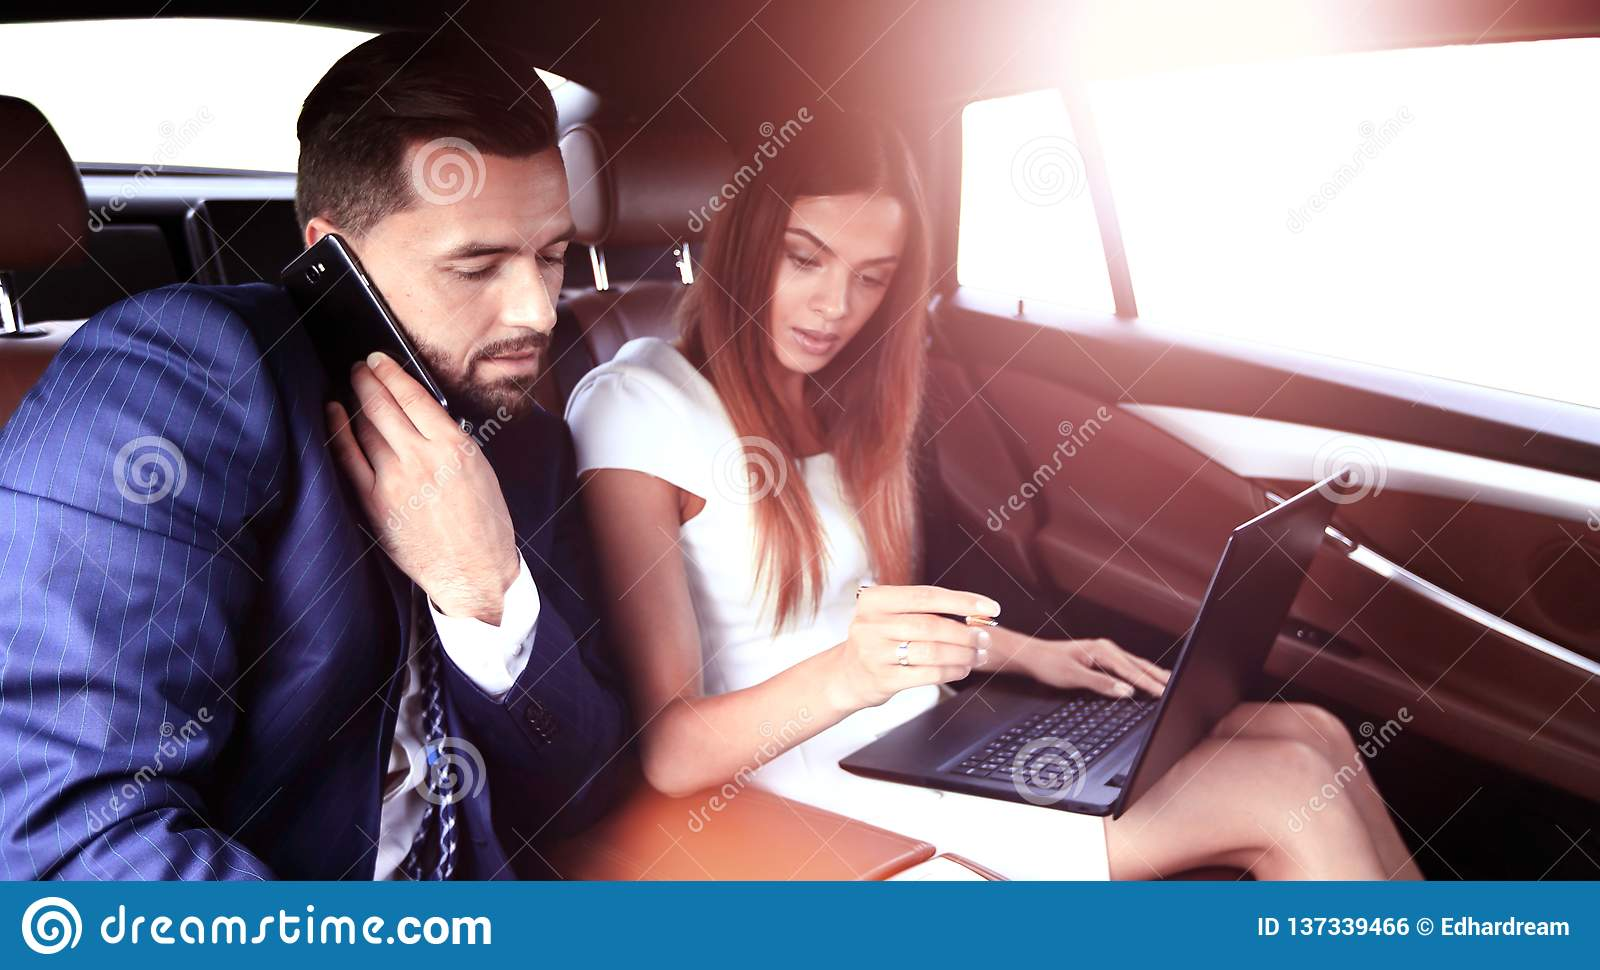phone: (283, 229, 448, 434)
talk: (282, 214, 574, 617)
